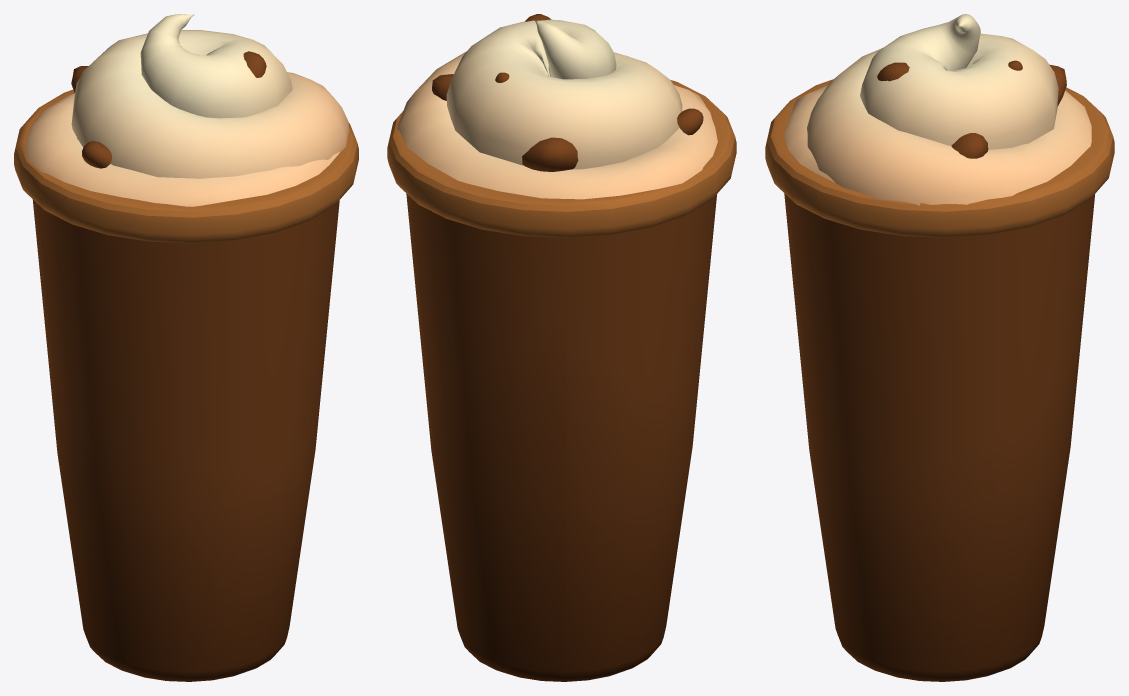
The model's file is SM_RENDERChocolateCoffeMug_01a.fbx.
3 renders of one model, left to right at view 1: azimuth 30°, elevation 25°; view 2: azimuth 150°, elevation 25°; view 3: azimuth 270°, elevation 25°, orthographic.
Visible parts, largest first — view 1: SM_RENDERChocolateCoffeMug_01a; view 2: SM_RENDERChocolateCoffeMug_01a; view 3: SM_RENDERChocolateCoffeMug_01a.
Boxes of the visible parts, x1,y1,x2,y2 form: SM_RENDERChocolateCoffeMug_01a: (14, 14, 358, 681); SM_RENDERChocolateCoffeMug_01a: (387, 14, 736, 681); SM_RENDERChocolateCoffeMug_01a: (765, 14, 1114, 681).
Bounding box in the file's own units: 36.19 × 71.99 × 36.19.
